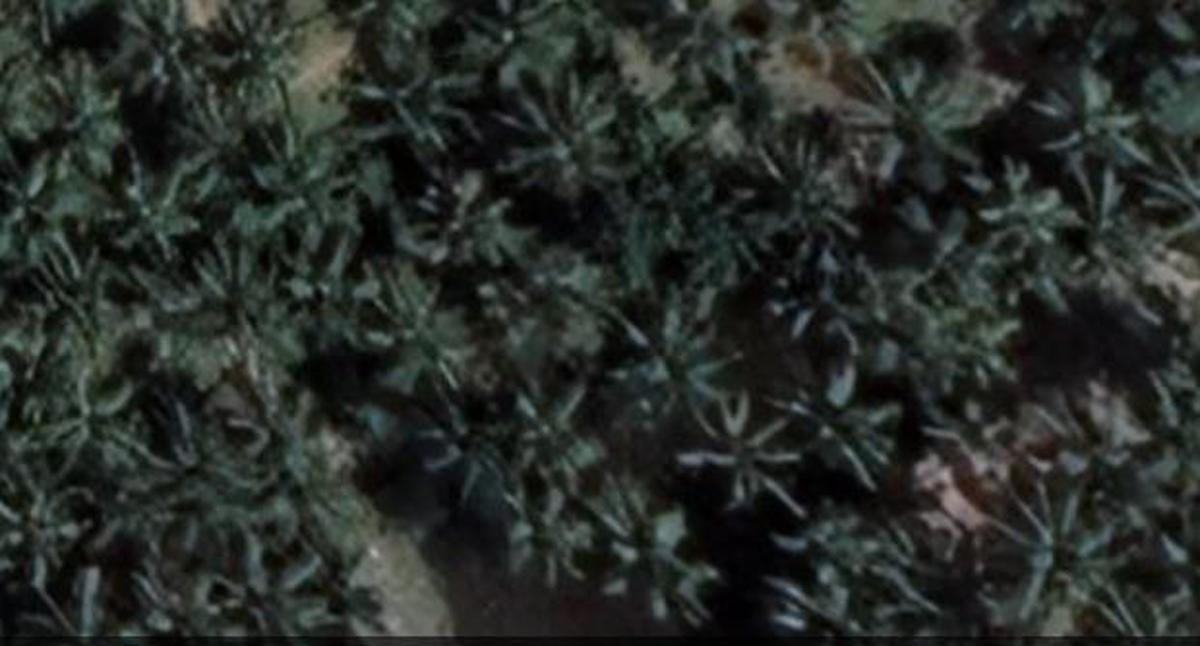coconut: (983, 468, 1126, 607), (778, 355, 905, 491), (497, 73, 630, 195), (1037, 379, 1165, 504), (857, 52, 981, 181), (601, 297, 729, 419), (685, 398, 816, 512), (737, 129, 861, 243), (352, 42, 476, 156), (870, 195, 989, 313), (205, 533, 329, 646), (361, 274, 474, 396), (238, 398, 350, 520), (139, 386, 259, 495), (408, 386, 522, 500), (770, 243, 896, 346), (29, 365, 145, 473), (27, 63, 131, 181), (507, 382, 617, 493), (106, 154, 212, 266), (969, 152, 1074, 264), (1050, 158, 1149, 276), (414, 172, 530, 272), (243, 117, 352, 222), (199, 243, 307, 346), (108, 551, 222, 646), (594, 493, 694, 601), (174, 96, 274, 203), (104, 0, 212, 98), (441, 0, 553, 94), (1029, 54, 1136, 152), (0, 491, 102, 593), (497, 485, 598, 586), (652, 0, 762, 92), (205, 0, 307, 98), (25, 239, 125, 338), (756, 566, 876, 646), (909, 290, 1008, 382), (0, 141, 73, 235)
